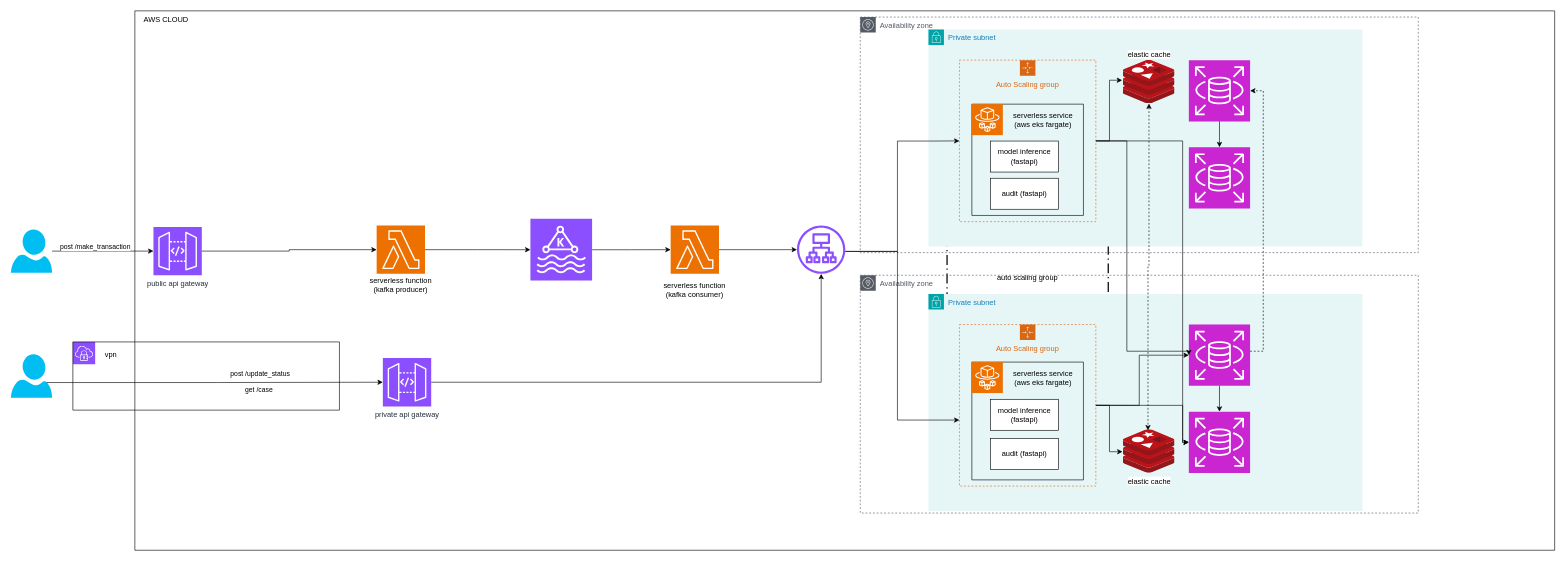
The diagram is 1566 pixels wide and 561 high, and some of its shapes have lost their labels. The box of each missing label's shape, as (x1, y1, x2, y2) in pixels:
application loadbalncer: (797, 225, 845, 274)
auditor: (11, 354, 52, 397)
customer: (11, 229, 52, 272)
database main: (1188, 324, 1250, 386)
database standby: (1188, 60, 1250, 121)
main read replica: (1188, 411, 1250, 473)
managed kafka cluster: (530, 218, 592, 281)
standby read replica: (1188, 147, 1250, 209)
